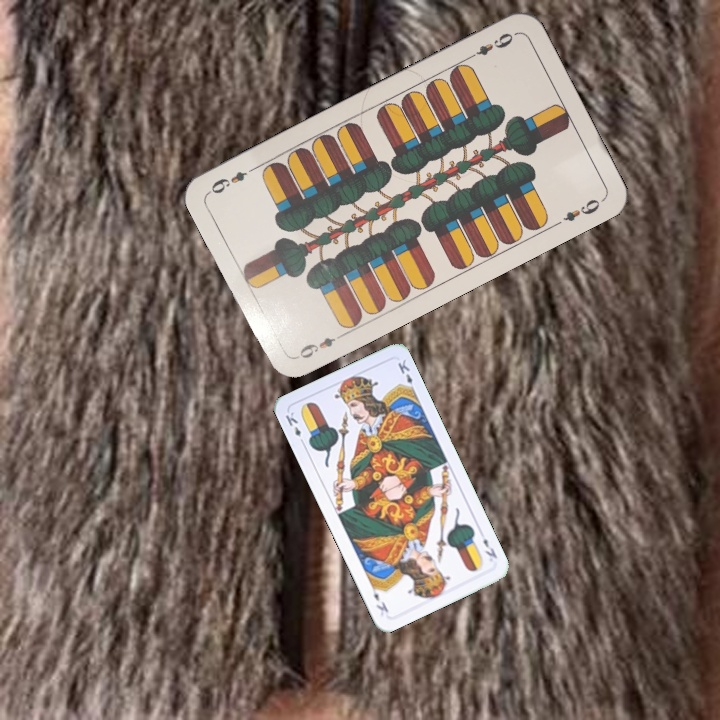E9: (464, 28, 518, 62), (292, 333, 338, 361)
EK: (281, 408, 307, 447), (479, 534, 500, 561)
